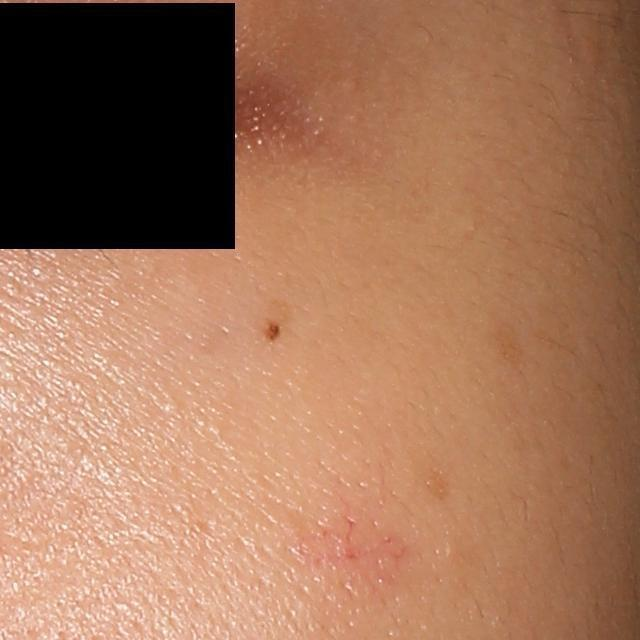melasma: (489, 315, 522, 377), (416, 464, 456, 504)
nevus: (257, 318, 281, 344)
